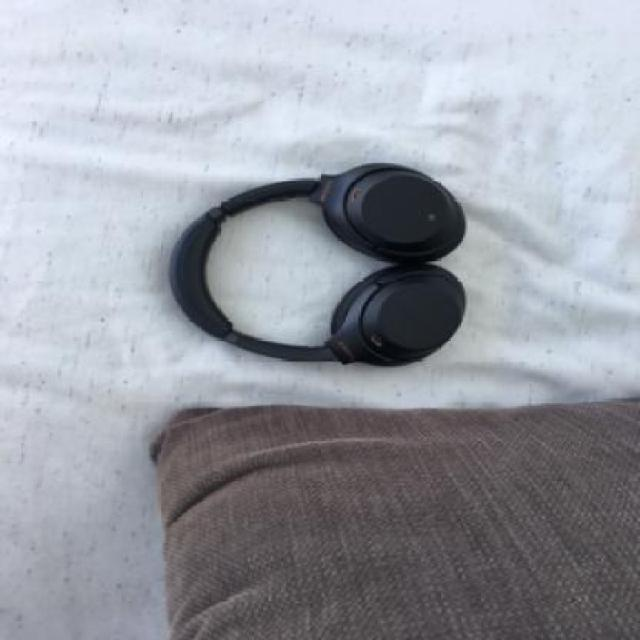earphone: (150, 70, 502, 365)
